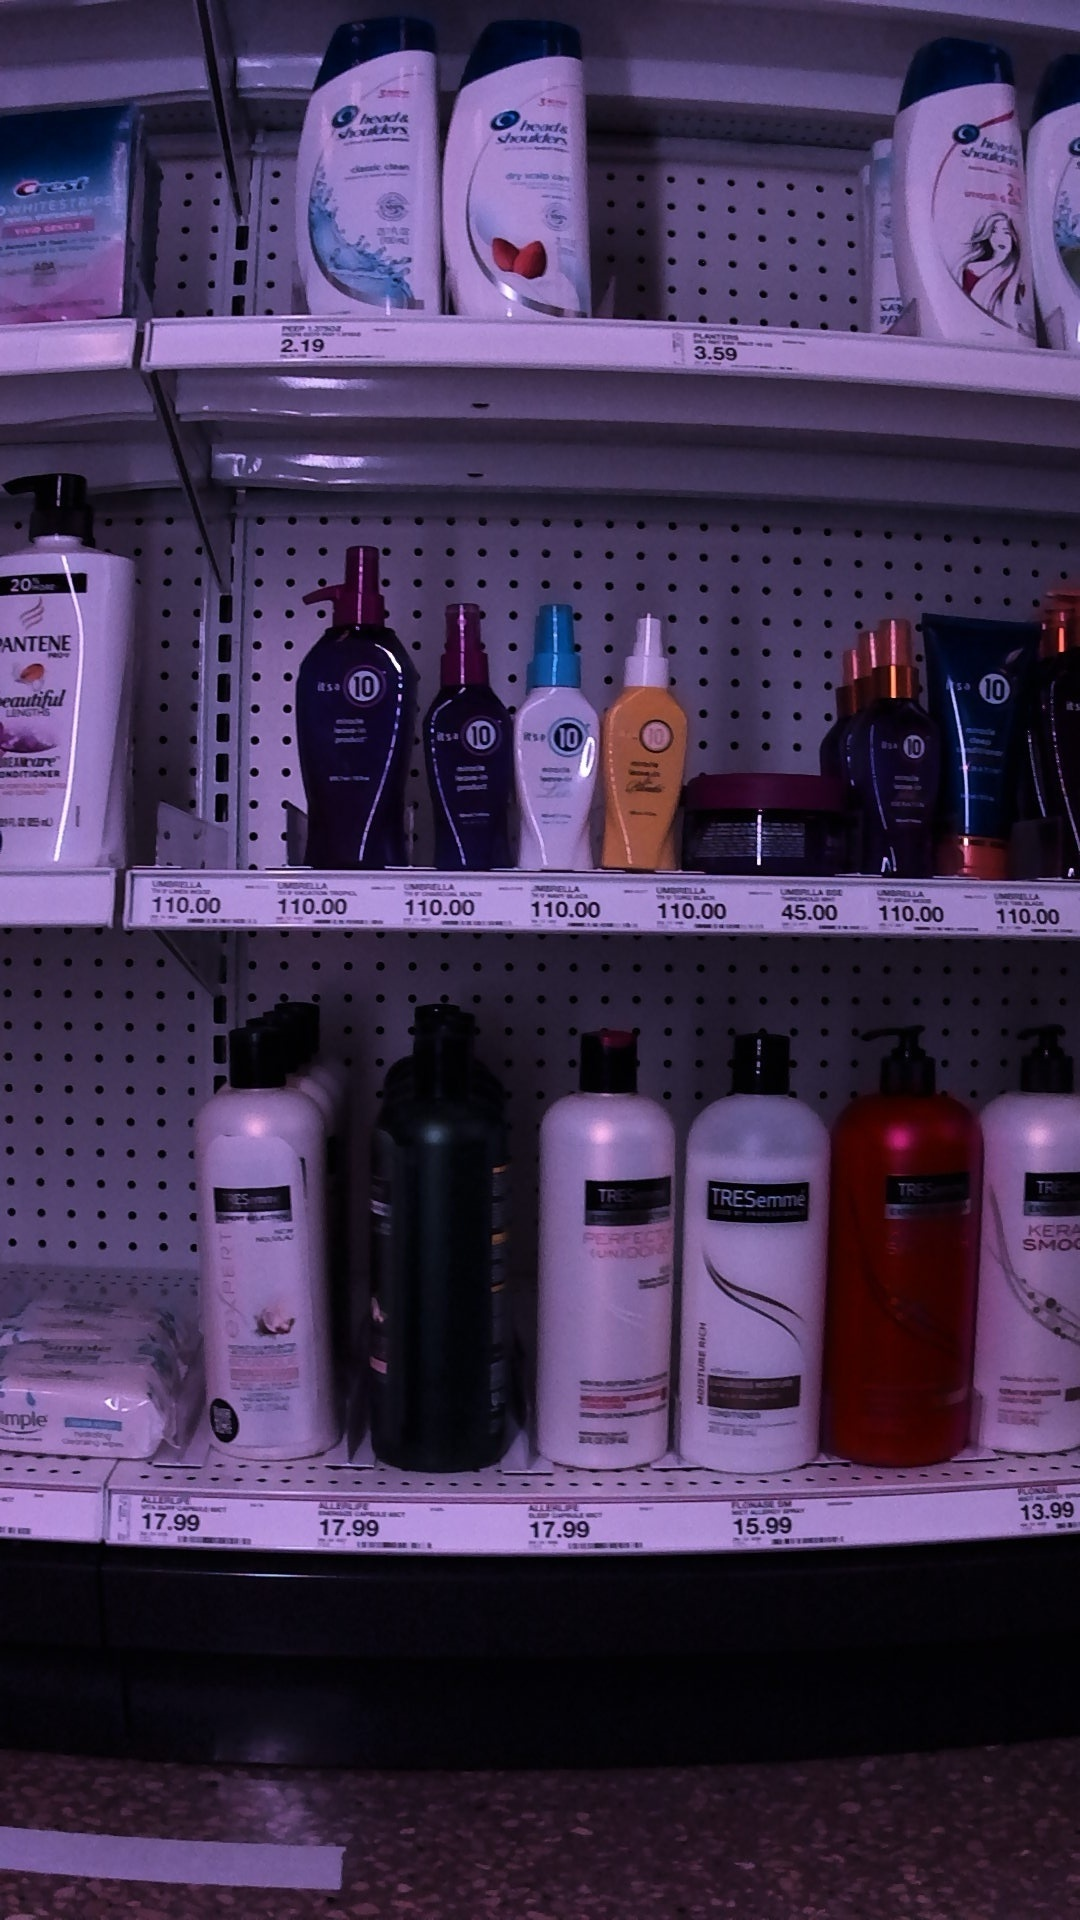ptag: (111, 1486, 269, 1545), (729, 1489, 858, 1557), (529, 864, 638, 940), (311, 1491, 438, 1553), (529, 1493, 655, 1555), (398, 864, 504, 938), (272, 864, 380, 935), (688, 324, 820, 382), (131, 873, 255, 928), (280, 309, 402, 364), (655, 872, 753, 940), (876, 882, 971, 938), (778, 880, 860, 935), (989, 882, 1073, 935), (1006, 1484, 1080, 1531)
